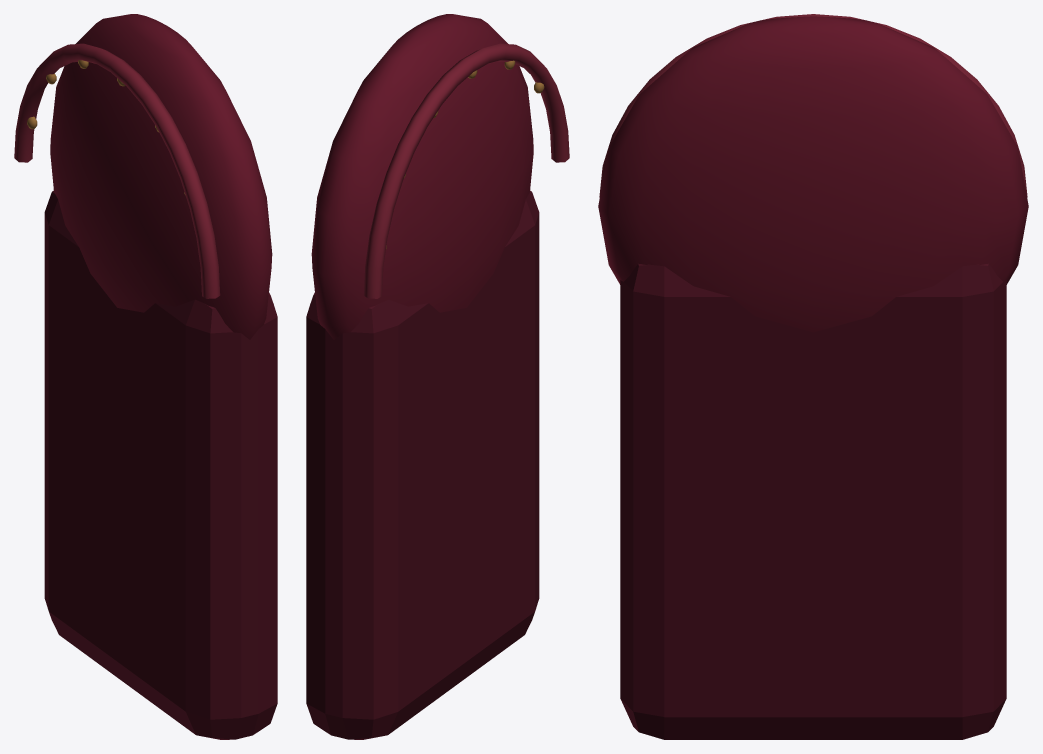
Rendered from SM_Menu_AudienceSeat_04.fbx.
The picture shows the model from 3 angles, left to right: view 1: azimuth 30°, elevation 25°; view 2: azimuth 150°, elevation 25°; view 3: azimuth 270°, elevation 25°; orthographic projection. The views are drawn at different scales.
Parts seen in each view (by area): view 1: Audience chair back.006_Baked; view 2: Audience chair back.006_Baked; view 3: Audience chair back.006_Baked.
Boxes of the visible parts, x1=… form: Audience chair back.006_Baked: x1=14, y1=14, x2=277, y2=739; Audience chair back.006_Baked: x1=306, y1=14, x2=569, y2=739; Audience chair back.006_Baked: x1=598, y1=14, x2=1028, y2=739.
Bounding box in the file's own units: 24 × 78 × 143.
